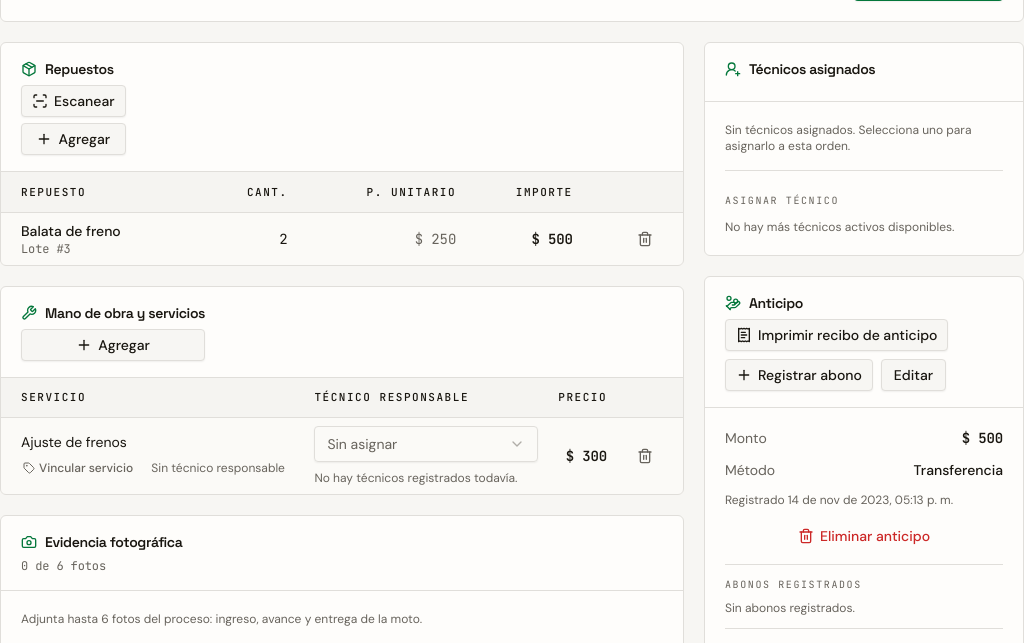
it: OrderDetailPage anticipo dialog seam (characterization) › pre-fills the amount and method when editing an existing advance
The image size is (1024, 643).
(page scrolled)
Click the button with test id "order_detail.advance.edit_button". click: x=914, y=375
box: [881,359,946,391]
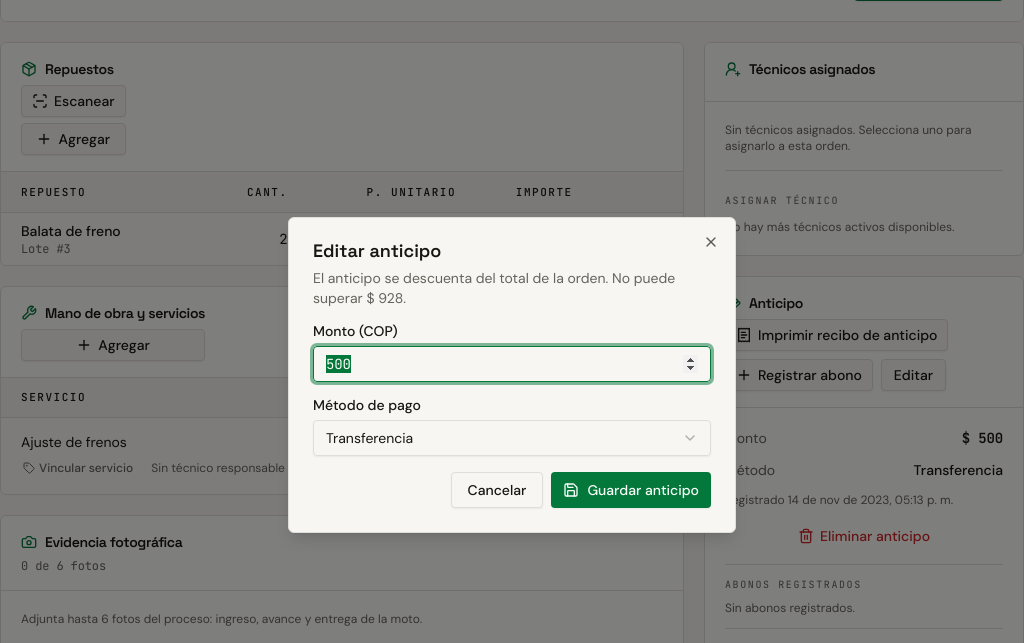
Check: the number field with test id "order_detail.advance_dialog.amount_input" holds "500", box [313,346,711,382]
Check: the dropdown with test id "order_detail.advance_dialog.method_select" reads "Transferencia", box [313,420,711,456]
Check: the heading "Editar anticipo" is shown, box [313,239,441,262]
